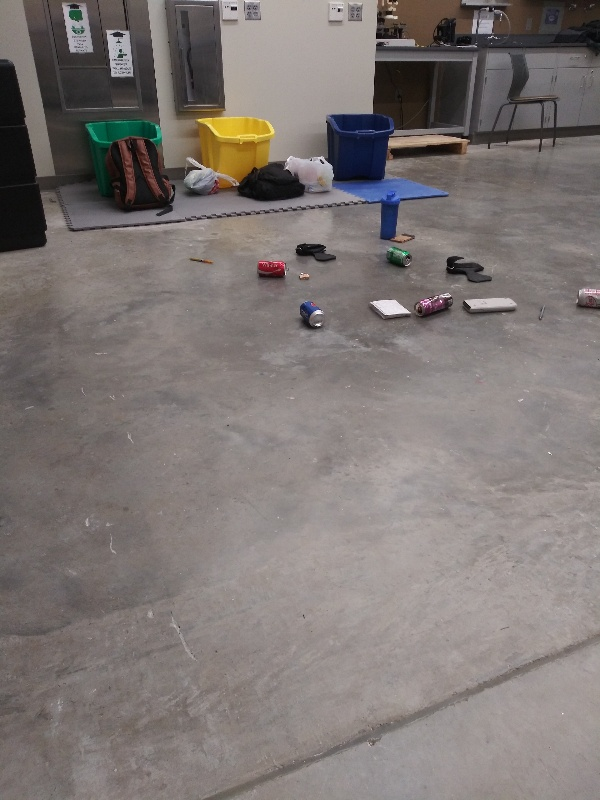can: (411, 288, 456, 317), (295, 299, 328, 328), (252, 258, 291, 278), (572, 285, 600, 312), (383, 244, 412, 268)
